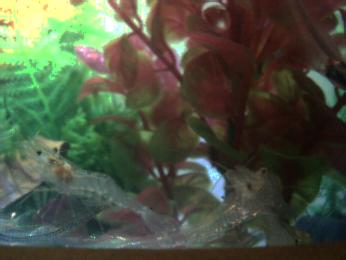glassfish: (278, 1, 346, 92)
siberian prawn: (20, 133, 173, 232)
